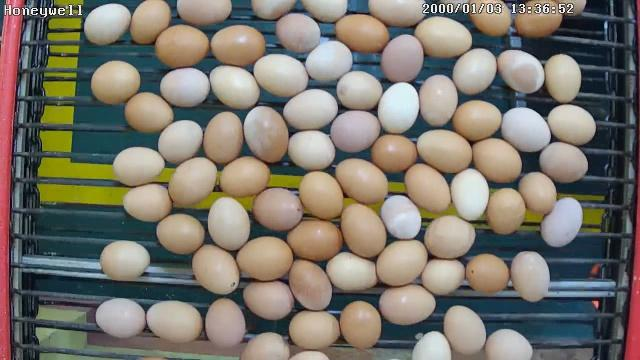egg: (234, 234, 294, 283), (284, 216, 344, 264), (413, 14, 474, 61), (243, 105, 291, 164), (414, 127, 474, 174), (190, 241, 242, 295), (340, 200, 388, 258), (334, 156, 389, 206), (470, 134, 523, 185), (286, 256, 334, 312), (167, 156, 218, 208), (375, 238, 428, 288), (377, 282, 437, 326), (252, 54, 310, 99), (144, 300, 203, 344), (250, 185, 304, 233), (333, 11, 390, 56), (207, 195, 252, 252), (208, 23, 266, 67), (403, 162, 452, 214), (281, 88, 340, 131), (422, 213, 477, 259), (153, 24, 210, 68), (286, 307, 341, 352), (324, 249, 379, 294), (200, 110, 244, 166), (500, 106, 551, 154), (209, 64, 261, 111), (450, 46, 498, 96), (298, 170, 346, 220), (90, 60, 142, 106), (442, 305, 488, 357), (538, 196, 584, 248), (94, 296, 148, 340), (376, 80, 420, 134), (218, 154, 272, 198), (378, 33, 424, 84), (112, 145, 165, 189), (154, 212, 207, 256), (304, 38, 354, 84), (330, 108, 380, 154), (242, 276, 294, 320), (498, 48, 546, 95), (82, 2, 132, 47), (539, 140, 590, 184), (450, 165, 490, 221), (418, 72, 458, 128), (339, 298, 382, 350), (124, 91, 176, 134), (99, 240, 152, 282), (156, 117, 204, 163), (546, 102, 596, 146), (286, 126, 336, 170), (204, 296, 246, 348), (450, 98, 502, 140), (158, 66, 210, 108), (122, 182, 174, 224), (510, 250, 552, 301), (464, 252, 512, 296), (370, 132, 418, 176), (335, 69, 383, 112), (274, 12, 322, 54), (381, 192, 423, 240), (418, 256, 466, 297), (486, 187, 526, 236), (544, 52, 582, 103), (129, 1, 172, 46), (518, 170, 560, 216), (513, 1, 563, 39), (468, 0, 512, 38)
